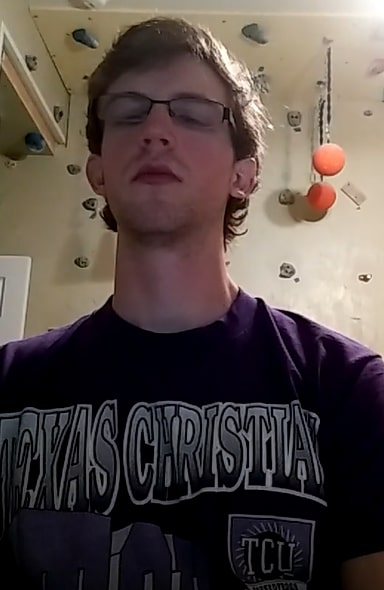Sleeping: (102, 97, 218, 139)
